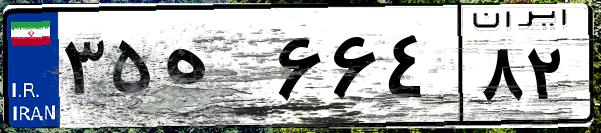2: (525, 38, 570, 115)
3: (57, 26, 110, 100)
4: (385, 28, 445, 110)
5: (110, 28, 158, 98)
6: (270, 28, 330, 110), (330, 28, 385, 110)
8: (475, 38, 525, 113)
ه: (158, 20, 270, 120)
